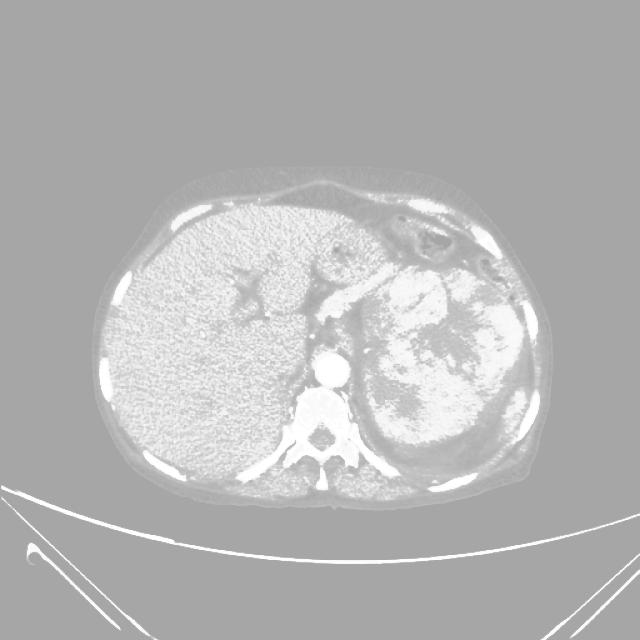TUMOR: (361, 266, 544, 488)
